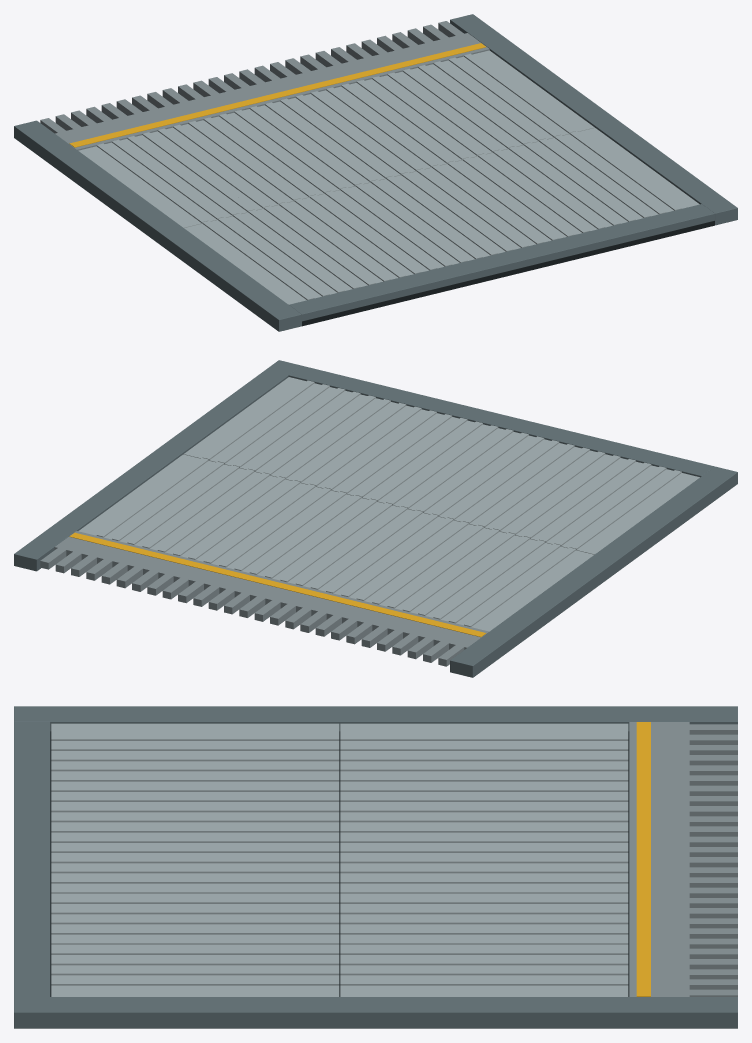
3 renders of one model, top to bottom at view 1: azimuth 30°, elevation 25°; view 2: azimuth 150°, elevation 25°; view 3: azimuth 270°, elevation 25°, orthographic. The views are drawn at different scales.
Parts seen in each view (by area): view 1: MODULE_AccessPlate_Rear, MODULE_AccessPlate_Front, MODULE_CombTransition, MODULE_SideTrim_Left, MODULE_FloorThreshold, MODULE_SideTrim_Right, MODULE_YellowMarker, MODULE_SupportTray; view 2: MODULE_AccessPlate_Front, MODULE_AccessPlate_Rear, MODULE_CombTransition, MODULE_SideTrim_Left, MODULE_SideTrim_Right, MODULE_FloorThreshold, MODULE_YellowMarker; view 3: MODULE_AccessPlate_Front, MODULE_AccessPlate_Rear, MODULE_CombTransition, MODULE_SideTrim_Right, MODULE_SideTrim_Left, MODULE_FloorThreshold, MODULE_YellowMarker, MODULE_SupportTray.
Boxes of the visible parts, x1=… form: MODULE_AccessPlate_Rear: x1=78, y1=50, x2=594, y2=227; MODULE_AccessPlate_Front: x1=184, y1=128, x2=699, y2=304; MODULE_CombTransition: x1=40, y1=21, x2=489, y2=150; MODULE_SideTrim_Left: x1=14, y1=120, x2=301, y2=331; MODULE_FloorThreshold: x1=289, y1=204, x2=714, y2=321; MODULE_SideTrim_Right: x1=450, y1=14, x2=737, y2=225; MODULE_YellowMarker: x1=69, y1=43, x2=485, y2=147; MODULE_SupportTray: x1=302, y1=221, x2=714, y2=326; MODULE_AccessPlate_Front: x1=183, y1=377, x2=699, y2=554; MODULE_AccessPlate_Rear: x1=78, y1=454, x2=593, y2=631; MODULE_CombTransition: x1=40, y1=531, x2=488, y2=666; MODULE_SideTrim_Left: x1=450, y1=466, x2=737, y2=677; MODULE_SideTrim_Right: x1=14, y1=360, x2=301, y2=571; MODULE_FloorThreshold: x1=288, y1=365, x2=714, y2=477; MODULE_YellowMarker: x1=69, y1=532, x2=486, y2=637; MODULE_AccessPlate_Front: x1=51, y1=723, x2=339, y2=996; MODULE_AccessPlate_Rear: x1=340, y1=723, x2=628, y2=996; MODULE_CombTransition: x1=629, y1=722, x2=737, y2=996; MODULE_SideTrim_Right: x1=14, y1=997, x2=737, y2=1028; MODULE_SideTrim_Left: x1=14, y1=706, x2=737, y2=731; MODULE_FloorThreshold: x1=14, y1=721, x2=50, y2=996; MODULE_YellowMarker: x1=636, y1=722, x2=650, y2=996; MODULE_SupportTray: x1=50, y1=731, x2=629, y2=996.
Bounding box in the file's own units: 1.2 × 0.03 × 1.2.
